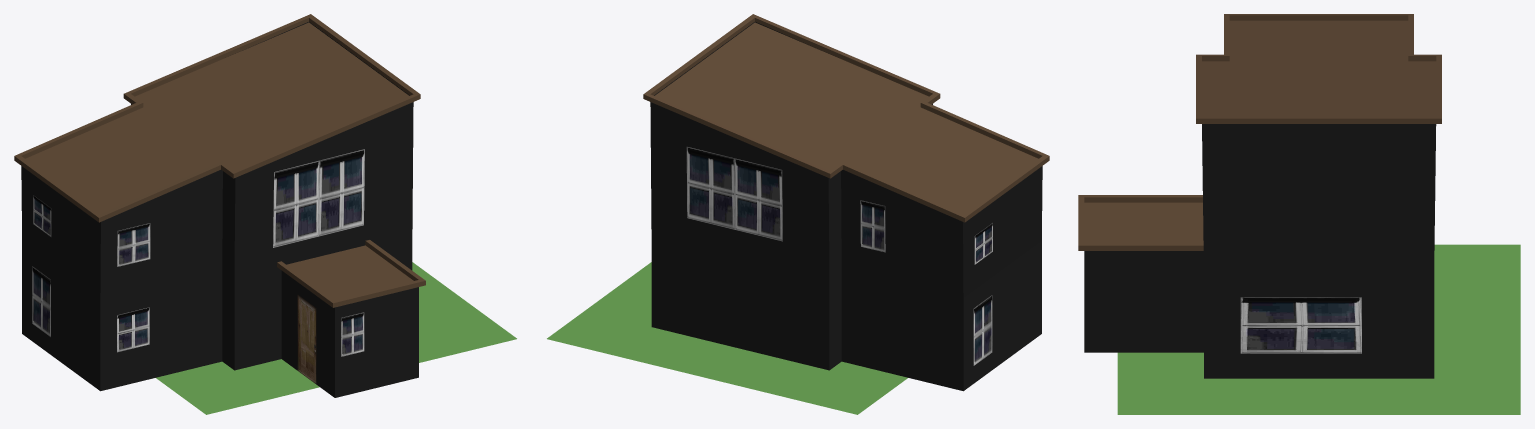
File: House.002.gltf
The picture shows the model from 3 angles, left to right: view 1: azimuth 30°, elevation 25°; view 2: azimuth 150°, elevation 25°; view 3: azimuth 270°, elevation 25°; orthographic projection. The views are drawn at different scales.
Visible parts, largest first — view 1: building_016, Plane.008; view 2: building_016, Plane.008; view 3: building_016, Plane.008.
Part boxes in pixels (x1,y1,x2,y2): building_016: (14, 14, 425, 397); Plane.008: (156, 262, 516, 414); building_016: (643, 14, 1049, 391); Plane.008: (547, 262, 907, 414); building_016: (1078, 14, 1441, 378); Plane.008: (1117, 244, 1520, 414).
Bounding box in the file's own units: 8.34 × 5.03 × 7.68.
5 materials, 2 textured.
